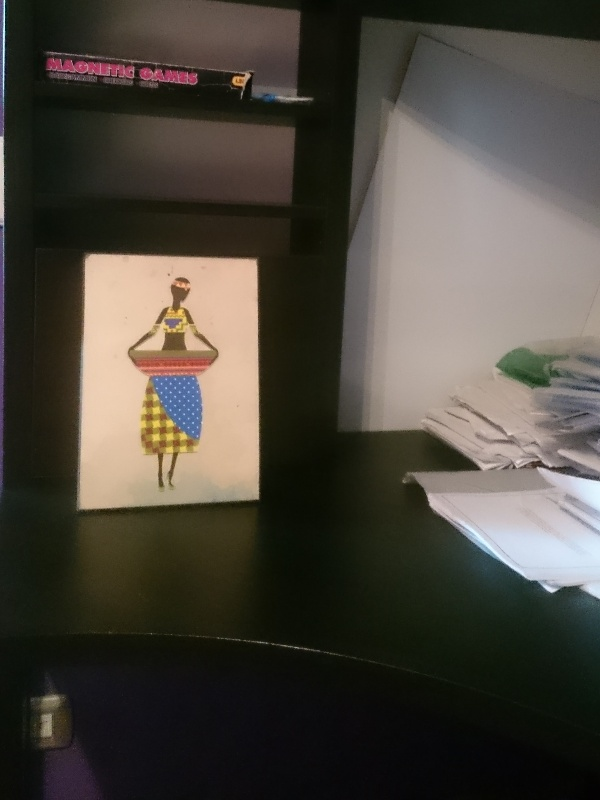my image: (79, 257, 258, 508)
